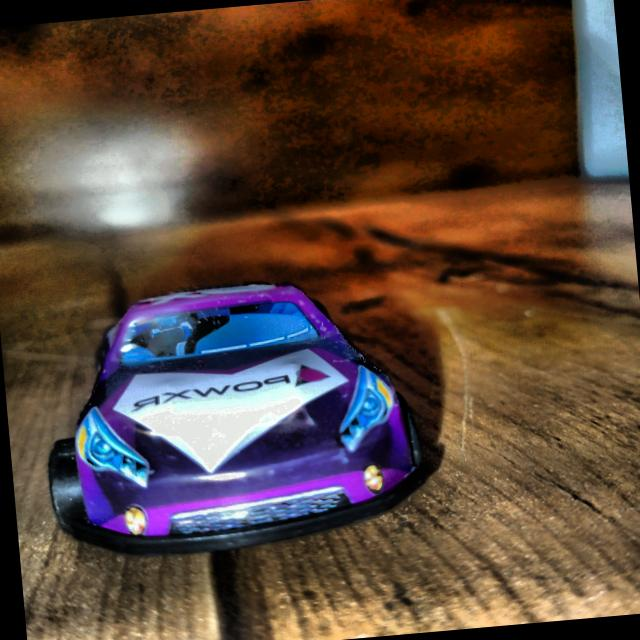Car: (23, 268, 444, 566)
